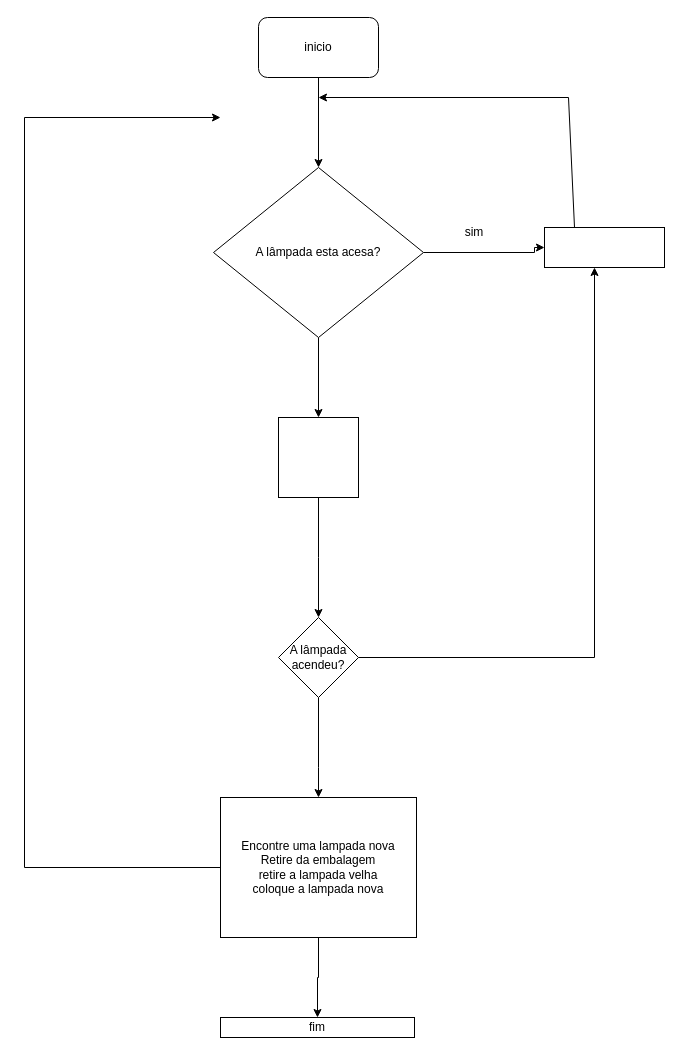
This 682x1055 diagram has some shape labels left out. Here are the shapes that lost their labels. From the top down, the centre of each, then its label:
the point at 604,247: vá para outro cômodo
the point at 318,457: Aperte o interruptor
